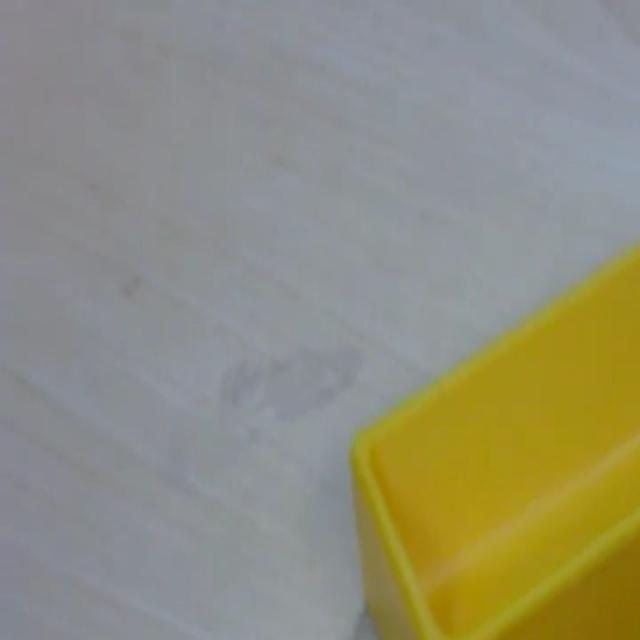yellow_block: (348, 240, 639, 636)
